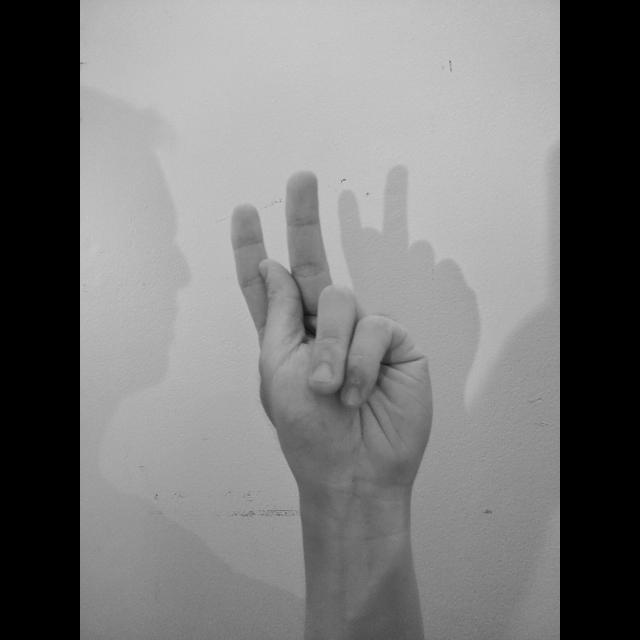K: (225, 166, 440, 518)
